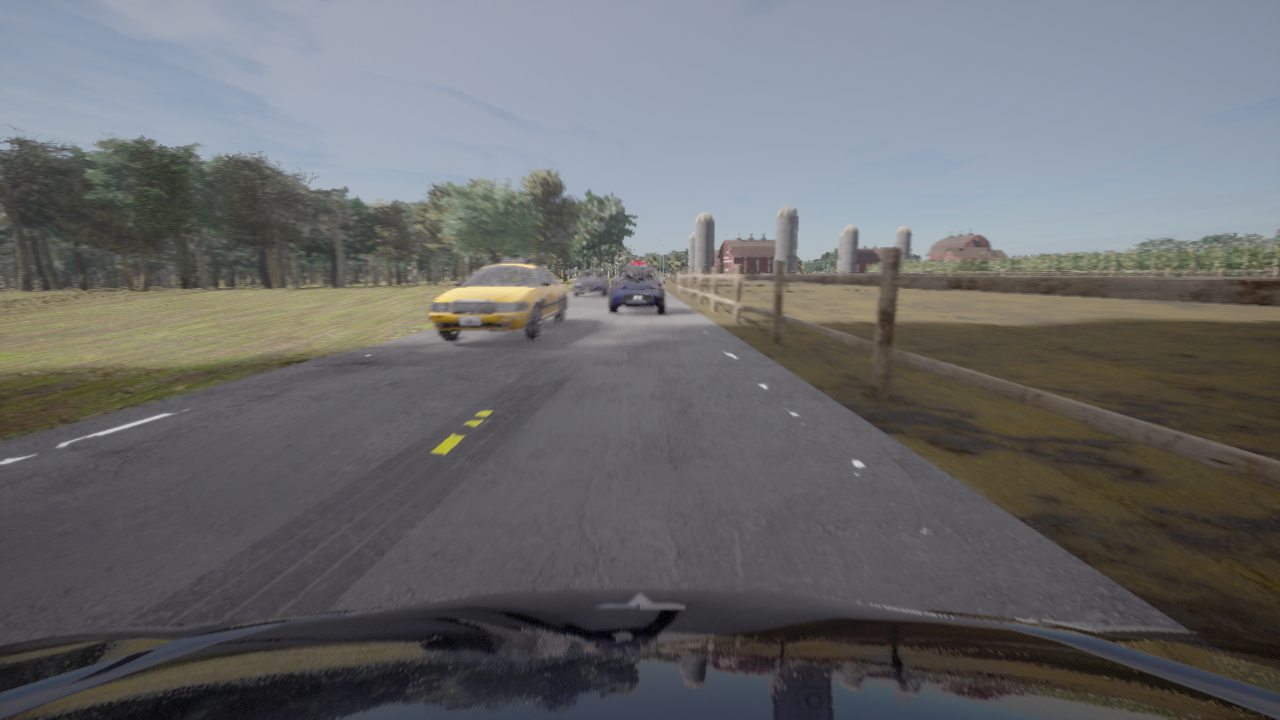cyclist: (0, 588, 1279, 719), (429, 257, 566, 339), (609, 266, 665, 313), (574, 270, 608, 296), (627, 258, 652, 266)
